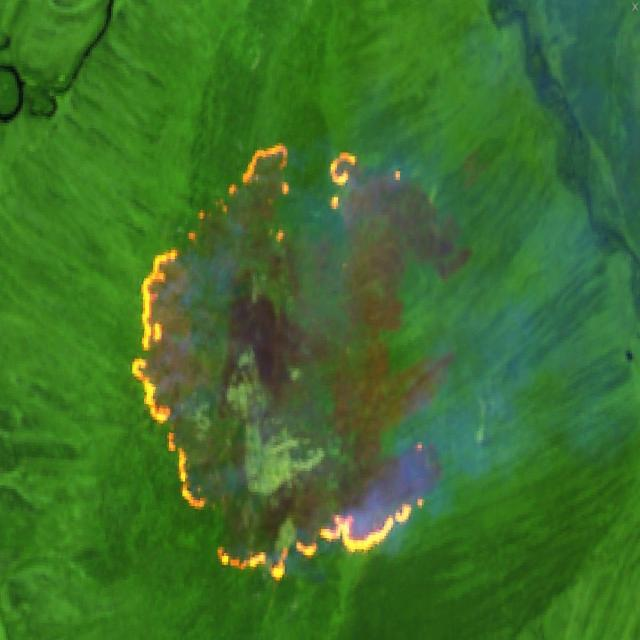fire: (128, 138, 439, 588)
